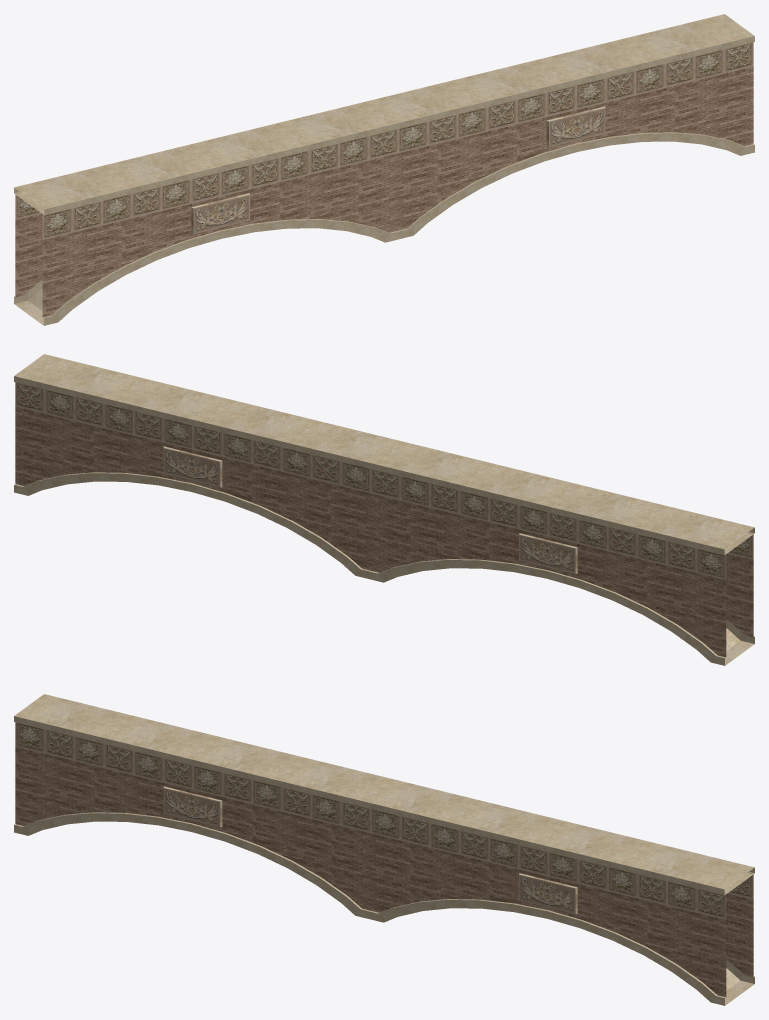
Rendered from thm_nboo_imprv_archway_wide_s01_l0.fbx.
The picture shows the model from 3 angles, top to bottom: view 1: azimuth 30°, elevation 25°; view 2: azimuth 150°, elevation 25°; view 3: azimuth 330°, elevation 25°; orthographic projection.
Parts seen in each view (by area): view 1: mesh_node; view 2: mesh_node; view 3: mesh_node.
Part boxes in pixels (<box>): mesh_node: <box>14,14,754,325</box>; mesh_node: <box>14,354,754,665</box>; mesh_node: <box>14,694,754,1005</box>.
Bounding box in the file's own units: 16 × 2.51 × 1.18.
